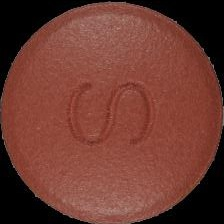62756-712: (0, 0, 224, 224)
